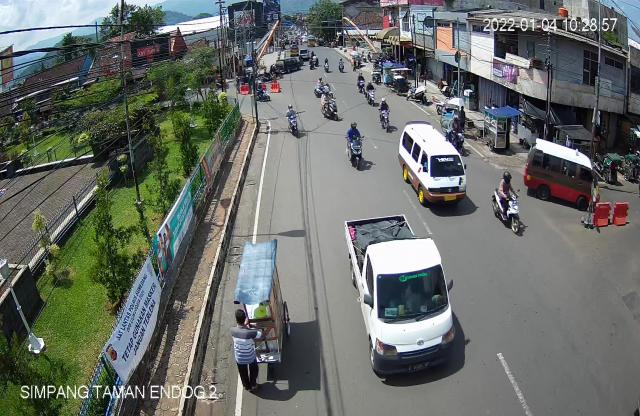Mobil: (342, 212, 470, 390), (395, 122, 472, 217), (523, 139, 604, 212)
Motor: (488, 168, 529, 239), (340, 120, 370, 168), (374, 100, 396, 139), (283, 101, 304, 139)
